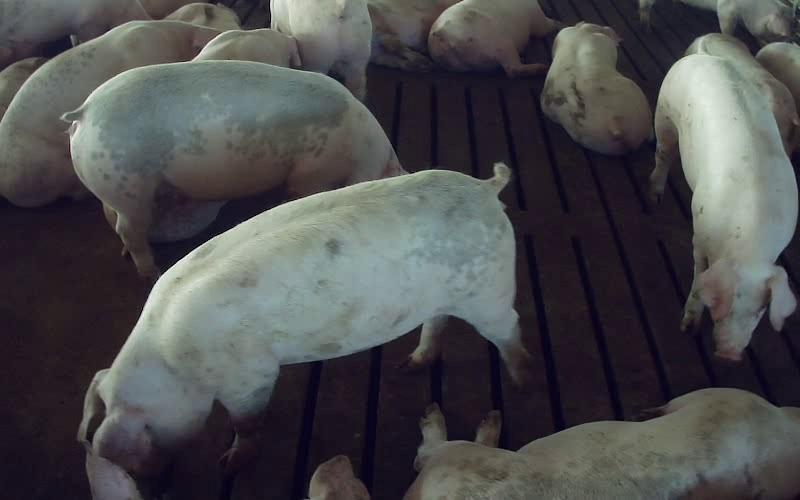pig: (81, 164, 528, 471), (63, 61, 403, 276), (650, 53, 797, 360), (404, 389, 799, 499), (0, 20, 219, 206), (541, 22, 652, 154), (684, 33, 799, 156), (428, 0, 559, 77), (271, 0, 371, 100)
